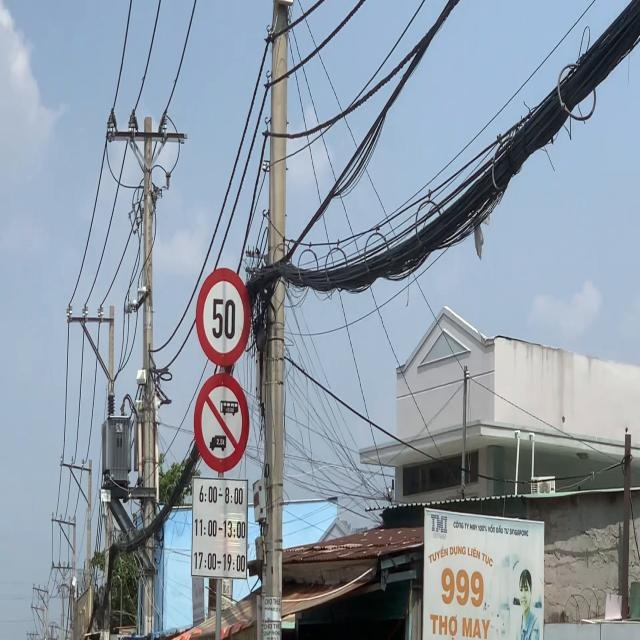bien_cam: (195, 267, 252, 367)
